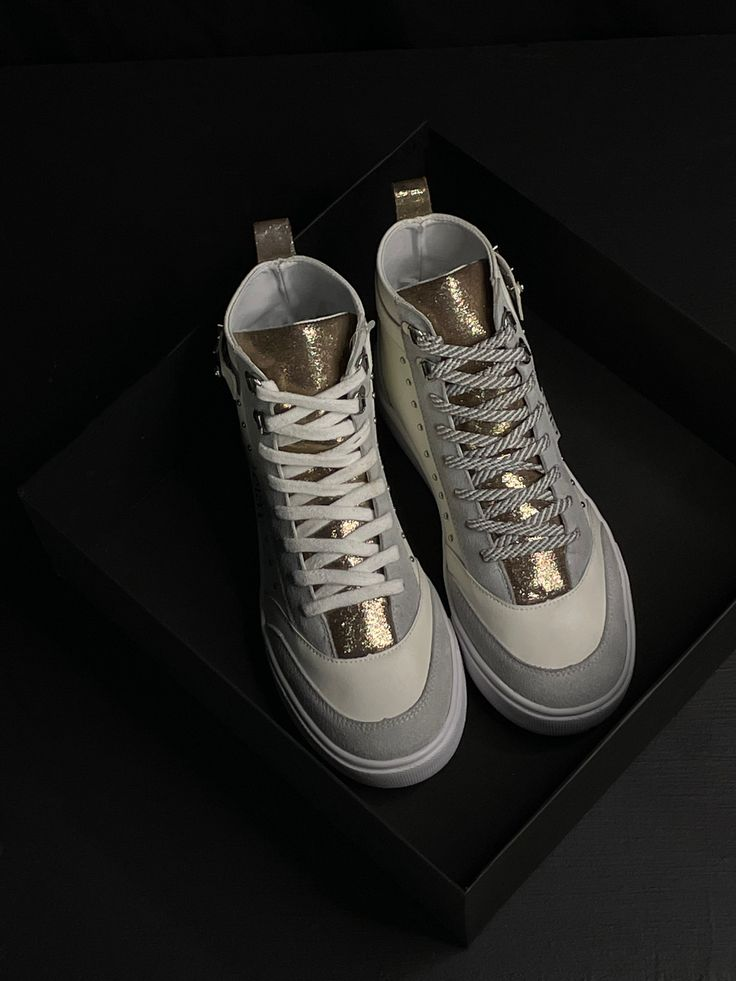gamuza: (252, 524, 630, 762)
